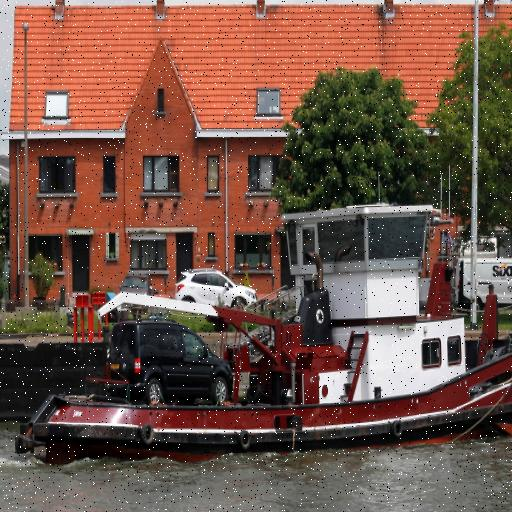tugboat: (10, 197, 512, 477)
